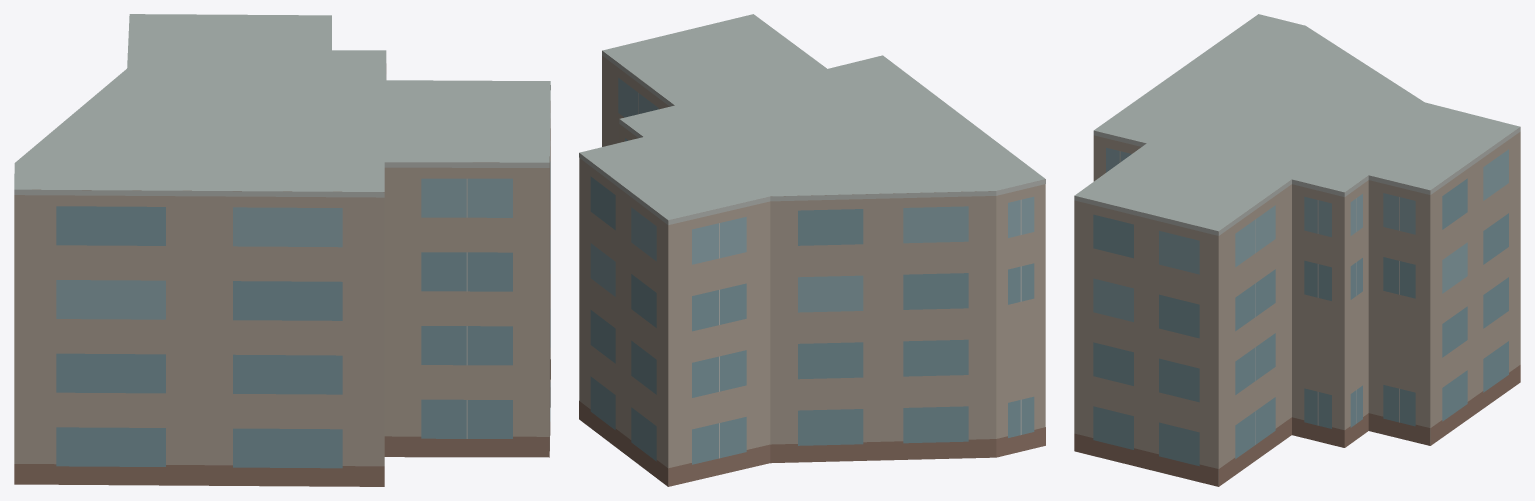
The model's file is survey-upis-32982390.glb.
The picture shows the model from 3 angles, left to right: view 1: azimuth 30°, elevation 25°; view 2: azimuth 150°, elevation 25°; view 3: azimuth 270°, elevation 25°; orthographic projection. The views are drawn at different scales.
Parts seen in each view (by area): view 1: survey-upis-32982390.tmp; view 2: survey-upis-32982390.tmp; view 3: survey-upis-32982390.tmp.
Boxes of the visible parts, x1,y1,x2,y2 form: survey-upis-32982390.tmp: (14,14,550,486); survey-upis-32982390.tmp: (579,14,1045,486); survey-upis-32982390.tmp: (1074,14,1520,486).
Size of the model in its own units: 23.98 by 13.15 by 20.81.
